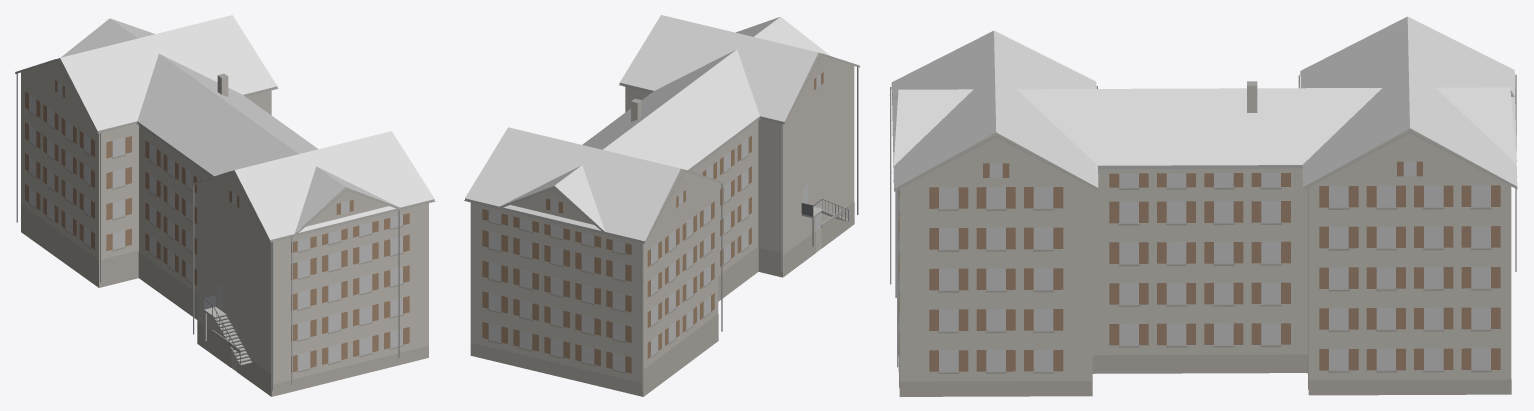
3 renders of one model, left to right at view 1: azimuth 30°, elevation 25°; view 2: azimuth 150°, elevation 25°; view 3: azimuth 270°, elevation 25°, orthographic. The views are drawn at different scales.
Visible parts, largest first — view 1: bld; view 2: bld; view 3: bld.
Part boxes in pixels (x1,y1,x2,y2): bld: [15, 15, 435, 396]; bld: [464, 15, 859, 396]; bld: [890, 16, 1517, 396].
Size of the model in its own units: 17.22 by 18.01 by 38.55.
